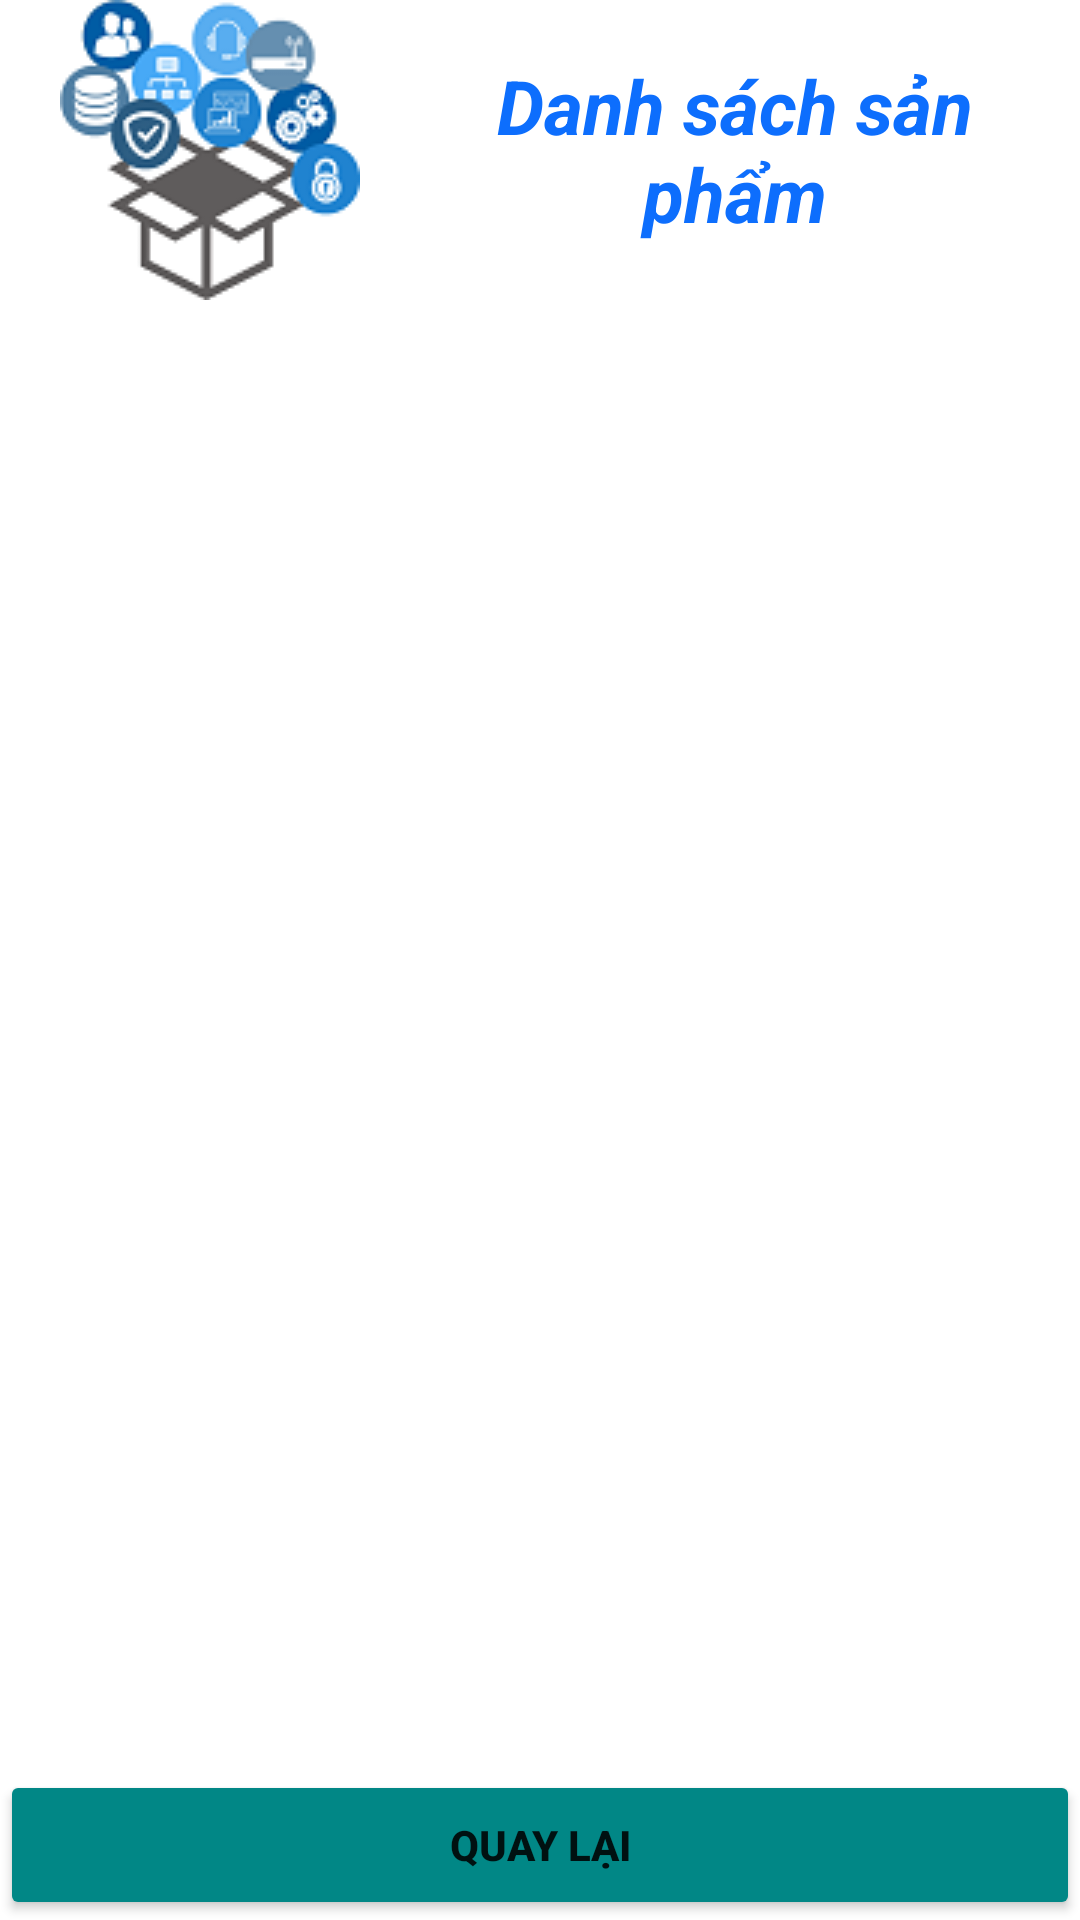

Where to tap for icons on this 1080px x 1920px app screen, as (x,y):
product: (210,150)
